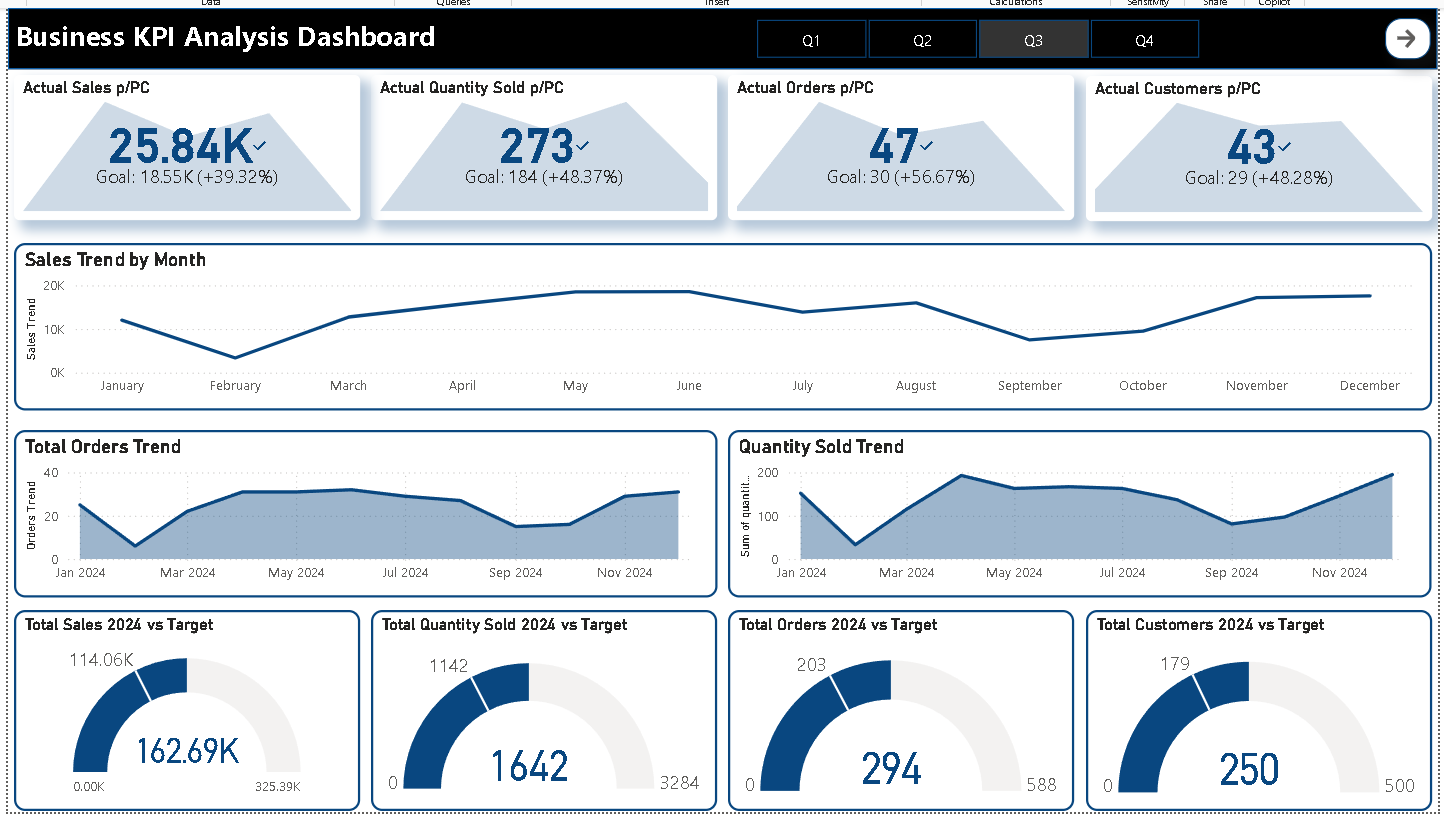

The dashboard page shown, as its layout file describes it:
{"tool":"powerbi","page":{"name":"KPI Page","canvas":[1280,720],"ordinal":0},"visuals":[{"type":"shape","box":[0,0,1280,54.9],"z":0},{"type":"kpi","title":"Actual Quantity Sold  p/PC","fields":{"TrendLine":["Sales data 2024.product_category"],"Indicator":["Sum(Sales data 2024.quantity_sold)"],"Goal":["Sum(Sales data 2023.Quantity_Sold)"]},"box":[325,60.3,310,130],"z":1000},{"type":"kpi","title":"Actual Orders p/PC","fields":{"TrendLine":["Sales data 2024.product_category"],"Indicator":["CountNonNull(Sales data 2024.order_id)"],"Goal":["CountNonNull(Sales data 2023.order_id)"]},"box":[645,60,310,130],"z":2000},{"type":"kpi","title":"Actual Customers p/PC","fields":{"TrendLine":["Sales data 2024.product_category"],"Indicator":["Count(Sales data 2024.customer_id)"],"Goal":["Count(Sales data 2023.customer_id)"]},"box":[965.4,60.9,310,130],"z":3000},{"type":"kpi","title":"Actual Sales p/PC","fields":{"TrendLine":["Sales data 2024.product_category"],"Indicator":["Sum(Sales data 2024.sales)"],"Goal":["Sum(Sales data 2023.Sales)"]},"box":[5.4,60,310,130],"z":4000},{"type":"lineChart","fields":{"Category":["Sales data 2024.date.Variation.Date Hierarchy.Year","Sales data 2024.date.Variation.Date Hierarchy.Quarter","Sales data 2024.date.Variation.Date Hierarchy.Month","Sales data 2024.date.Variation.Date Hierarchy.Day"],"Y":["Sum(Sales data 2024.sales)"]},"box":[5,210.4,1270,150.4],"z":9000},{"type":"areaChart","title":"Total Orders Trend","fields":{"Category":["Sales data 2024.date.Variation.Date Hierarchy.Year","Sales data 2024.date.Variation.Date Hierarchy.Quarter","Sales data 2024.date.Variation.Date Hierarchy.Month","Sales data 2024.date.Variation.Date Hierarchy.Day"],"Y":["CountNonNull(Sales data 2024.order_id)"]},"box":[5,377.9,630,149.6],"z":10000},{"type":"areaChart","title":"Quantity Sold Trend","fields":{"Category":["Sales data 2024.date.Variation.Date Hierarchy.Year","Sales data 2024.date.Variation.Date Hierarchy.Quarter","Sales data 2024.date.Variation.Date Hierarchy.Month","Sales data 2024.date.Variation.Date Hierarchy.Day"],"Y":["Sum(Sales data 2024.quantity_sold)"]},"box":[645,377.9,630,149.6],"z":11000},{"type":"gauge","title":"Total Sales 2024 vs Target","fields":{"Y":["Sum(Sales data 2024.sales)"],"TargetValue":["Sum(Sales data 2023.Sales)"]},"box":[5,539.2,310.4,180.4],"z":12000},{"type":"gauge","title":"Total Quantity Sold 2024 vs Target","fields":{"Y":["Sum(Sales data 2024.quantity_sold)"],"TargetValue":["Sum(Sales data 2023.Quantity_Sold)"]},"box":[325,539.2,310.4,180.4],"z":13000},{"type":"gauge","title":"Total Orders 2024 vs Target","fields":{"Y":["CountNonNull(Sales data 2024.order_id)"],"TargetValue":["CountNonNull(Sales data 2023.order_id)"]},"box":[645,539.2,310.4,180.4],"z":14000},{"type":"gauge","title":"Total Customers 2024 vs Target","fields":{"Y":["Count(Sales data 2024.customer_id)"],"TargetValue":["Count(Sales data 2023.customer_id)"]},"box":[965,539.2,310.4,180.4],"z":15000},{"type":"textbox","box":[1.8,2.7,407.5,49.3],"z":16000},{"type":"slicer","fields":{"Values":["Sales data 2024.Quarter"]},"box":[644.8,3.6,446,48.4],"z":17000},{"type":"actionButton","box":[1233.1,9,41.2,36.7],"z":18000}]}

Visuals, with their boxes in screenshot pixels (x1, y1, x2, y2):
shape: 8, 4, 1432, 65
"Actual Quantity Sold  p/PC" kpi: 369, 71, 714, 215
"Actual Orders p/PC" kpi: 725, 71, 1070, 215
"Actual Customers p/PC" kpi: 1082, 72, 1426, 216
"Actual Sales p/PC" kpi: 14, 71, 358, 215
lineChart - Sales data 2024.date.Variation.Date Hierarchy.Year x Sales data 2024.date.Variation.Date Hierarchy.Quarter: 13, 238, 1426, 405
"Total Orders Trend" areaChart: 13, 424, 714, 591
"Quantity Sold Trend" areaChart: 725, 424, 1426, 591
"Total Sales 2024 vs Target" gauge: 13, 604, 358, 804
"Total Quantity Sold 2024 vs Target" gauge: 369, 604, 714, 804
"Total Orders 2024 vs Target" gauge: 725, 604, 1070, 804
"Total Customers 2024 vs Target" gauge: 1081, 604, 1426, 804
textbox: 10, 7, 463, 62
slicer - Sales data 2024.Quarter: 725, 8, 1221, 62
actionButton: 1379, 14, 1425, 55
